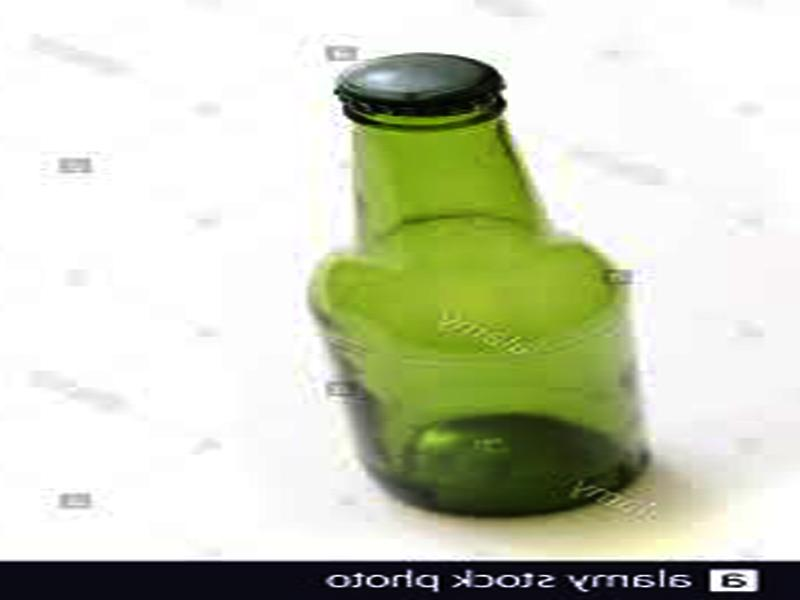Beer: (333, 53, 645, 516)
